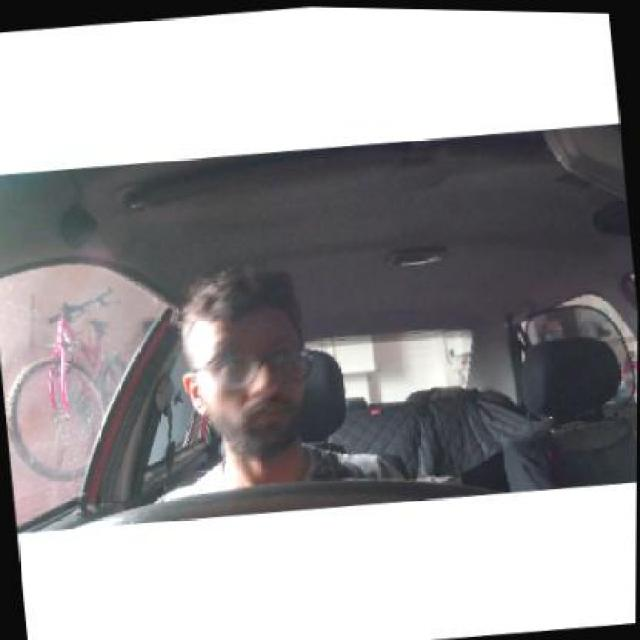LeftRight: (170, 263, 328, 459)
